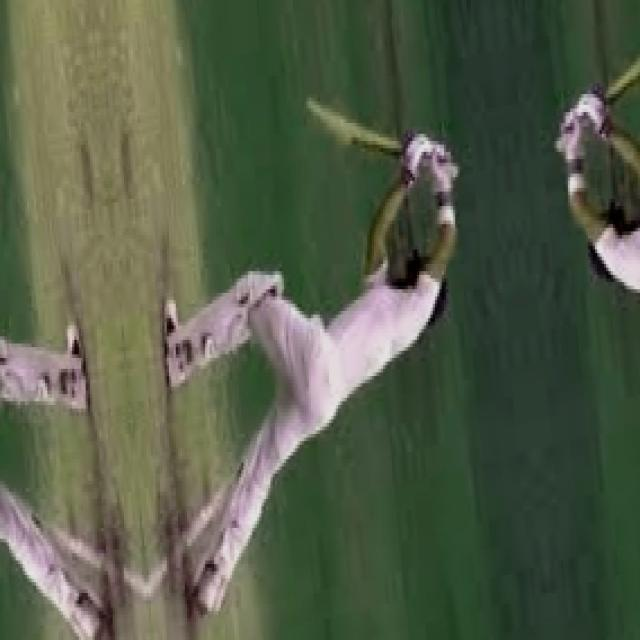bat: (278, 90, 415, 153)
toe: (304, 96, 322, 118)
